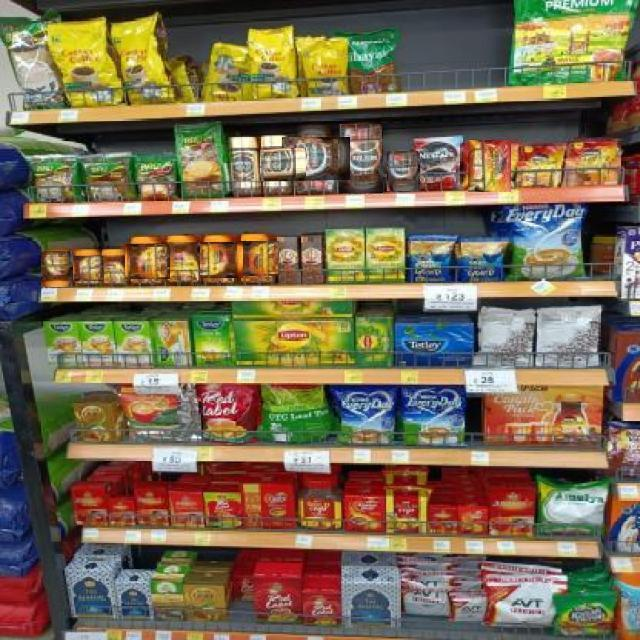Coffee: (339, 123, 383, 193), (282, 137, 350, 180), (417, 139, 461, 190), (468, 140, 511, 192), (229, 136, 260, 196), (248, 148, 306, 180), (194, 242, 243, 278), (121, 244, 170, 279), (165, 237, 200, 285), (232, 241, 279, 276), (386, 150, 418, 191), (41, 250, 73, 287), (68, 256, 104, 281), (101, 249, 125, 286)
